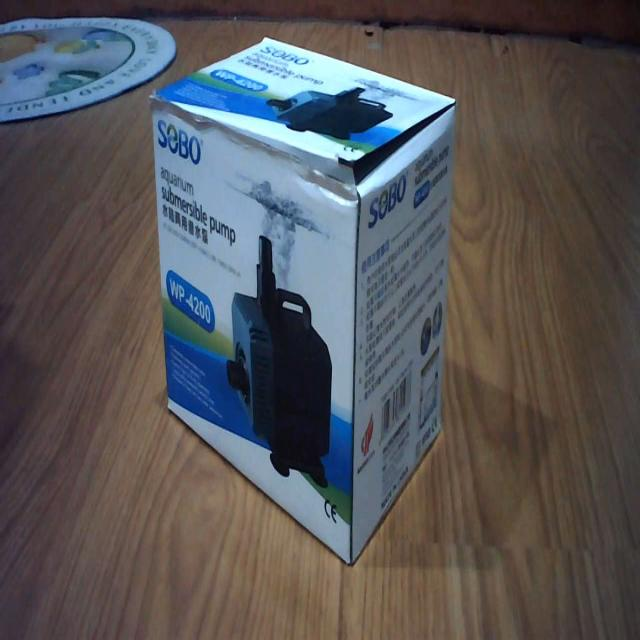SOBO_WP_4200: (148, 28, 462, 576)
